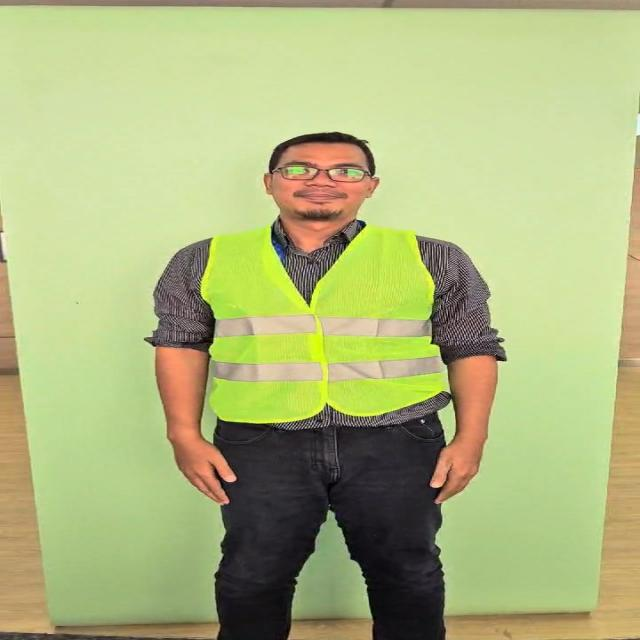goggles: (270, 166, 374, 182)
safety_vest: (204, 228, 447, 421)
